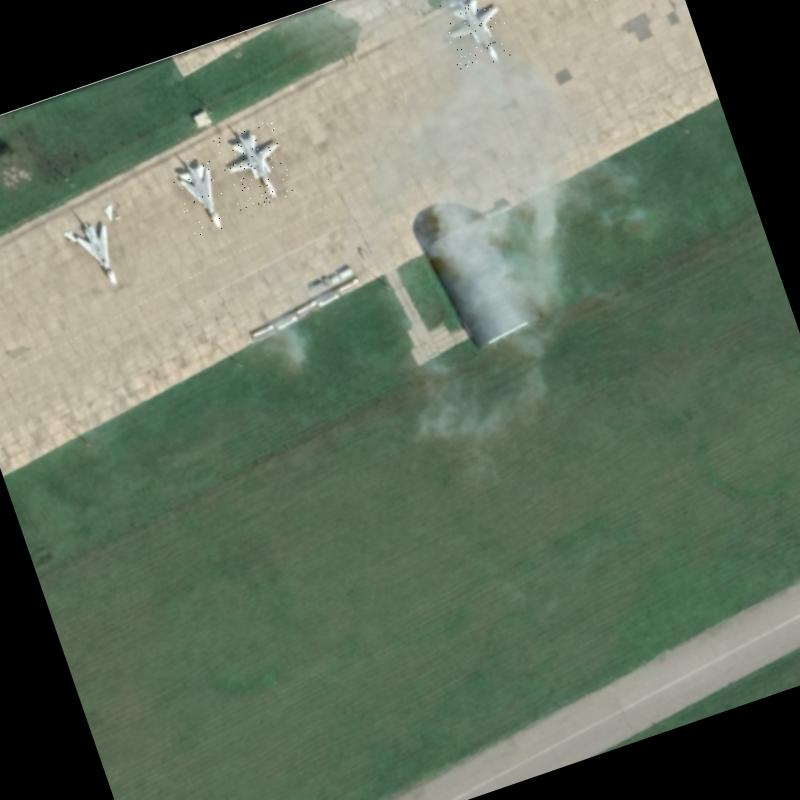A20: (213, 118, 297, 213), (168, 152, 236, 242), (437, 0, 517, 75), (65, 210, 129, 296)
